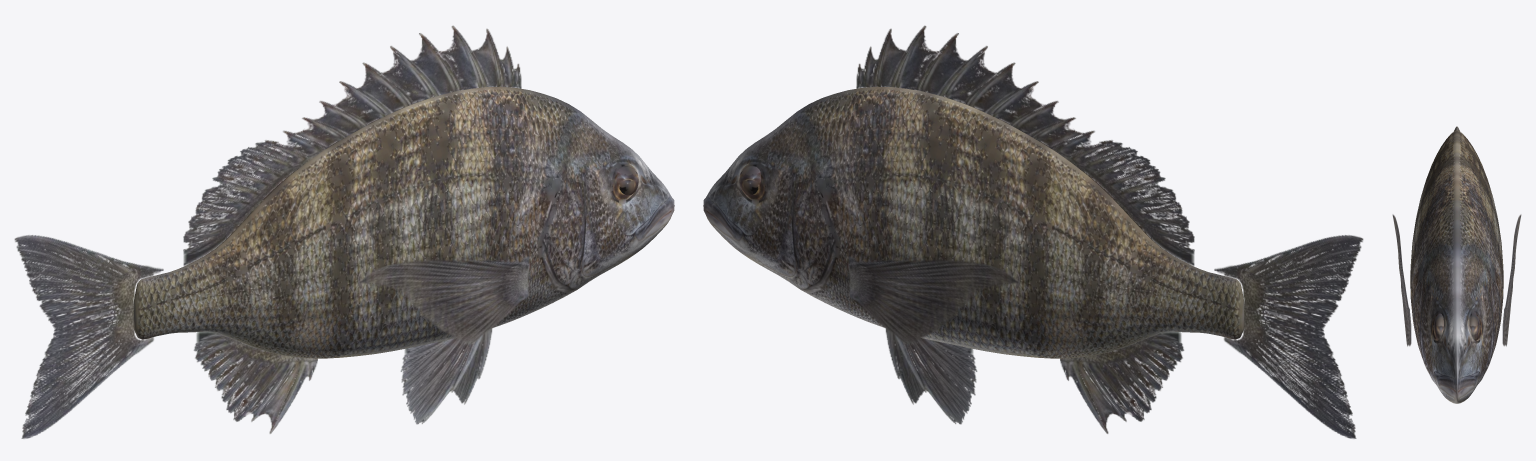
Rendered from kurodai.glb.
3 renders of one model, left to right at view 1: azimuth 30°, elevation 25°; view 2: azimuth 150°, elevation 25°; view 3: azimuth 270°, elevation 25°, orthographic. The views are drawn at different scales.
Parts seen in each view (by area): view 1: kurodai; view 2: kurodai; view 3: kurodai.
Part boxes in pixels (x1,y1,x2,y2): kurodai: (14, 25, 674, 438); kurodai: (703, 25, 1363, 438); kurodai: (1392, 126, 1521, 403).
Size of the model in its own units: 0.4006 by 0.2273 by 0.0814.
1 material, 1 textured.
